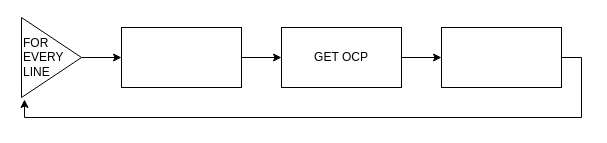
This 607x143 diagram has some shape labels left out. Here are the shapes that lost their labels. From the top down, the centre of each, then its label:
At (181,57): "GET COMMAND NAME".
At (501,57): "GET PARAMS".
